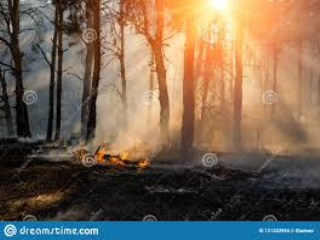fire: (80, 142, 150, 172)
smoke: (84, 66, 316, 147)
